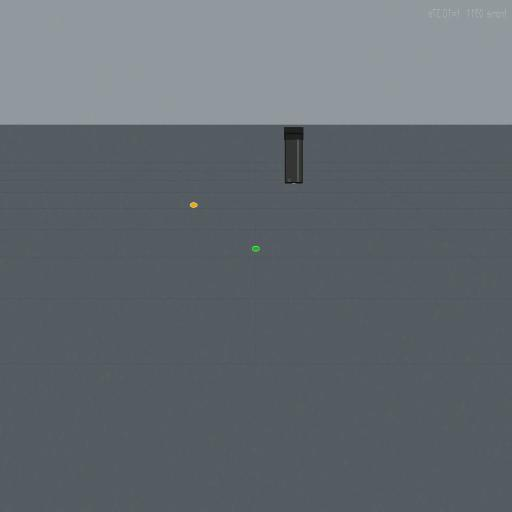bin: (284, 126, 304, 184)
